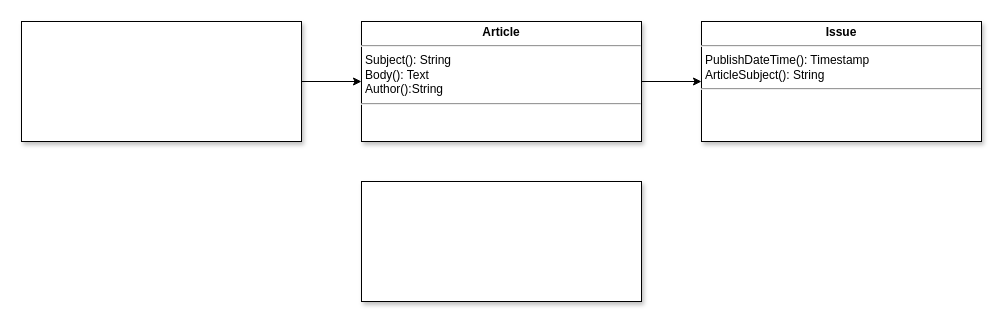
Image size: 1005x326. Some labels were removed from this diagram. The shapes that lost their labels are listed below. From the top down, each one's centre as x and y in pixels, then its label:
At (162,82): "Author Name(): String EmailAddress(): String".
At (502,242): "StudentUser Name(): String EmailAddress(): String".
